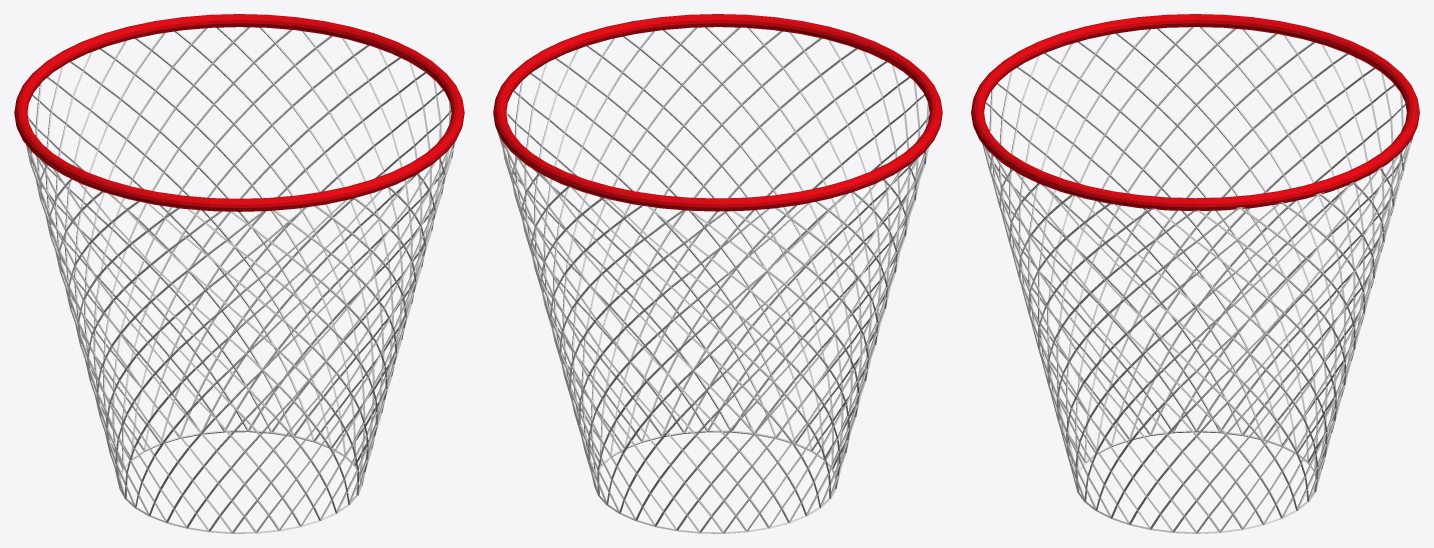
File: Ring.fbx
3 views of the same model, side by side, from view 1: azimuth 30°, elevation 25°; view 2: azimuth 150°, elevation 25°; view 3: azimuth 270°, elevation 25° (orthographic).
Visible parts, largest first — view 1: Rim 2; view 2: Rim 2; view 3: Rim 2.
Boxes of the visible parts, <box> form: Rim 2: <box>14,14,464,533</box>; Rim 2: <box>493,14,942,533</box>; Rim 2: <box>971,14,1419,533</box>.
Size of the model in its own units: 0.6316 by 0.5832 by 0.6316.
